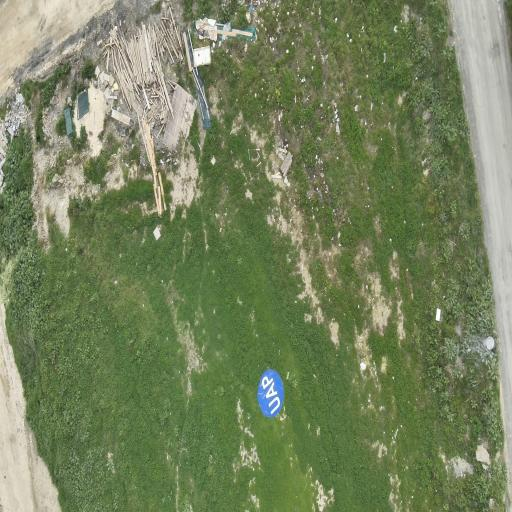uap: (257, 369, 283, 417)
